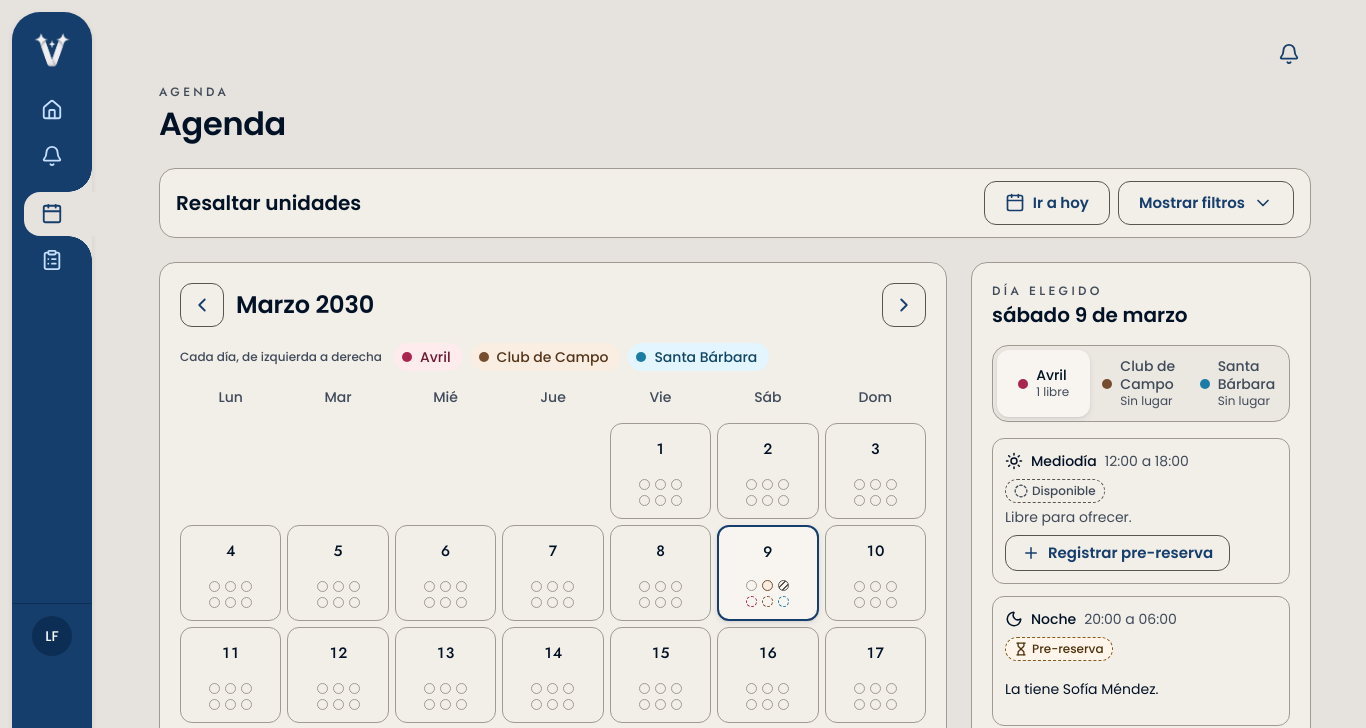
Test: UI-08 · registrar pre-reserva › la vendedora elige un cliente existente y el nombre del evento se arma solo
Click the button "Registrar pre-reserva". click: (1118, 553)
box: [1005, 535, 1230, 571]
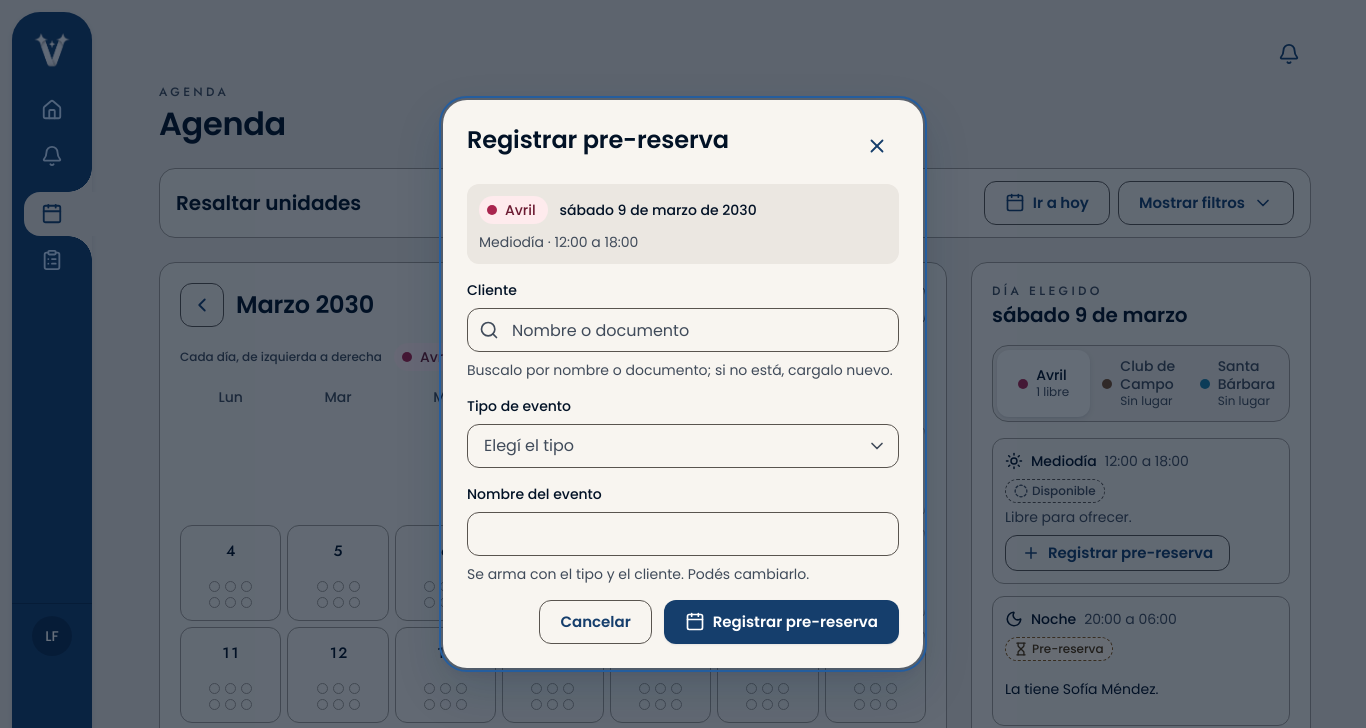
Result: the text "sábado 9 de marzo de 2030" is shown at [560, 200, 757, 220]
Type "Delf" into the dropdown labelled "Cliente". click: (683, 330)
box: [467, 308, 899, 352]
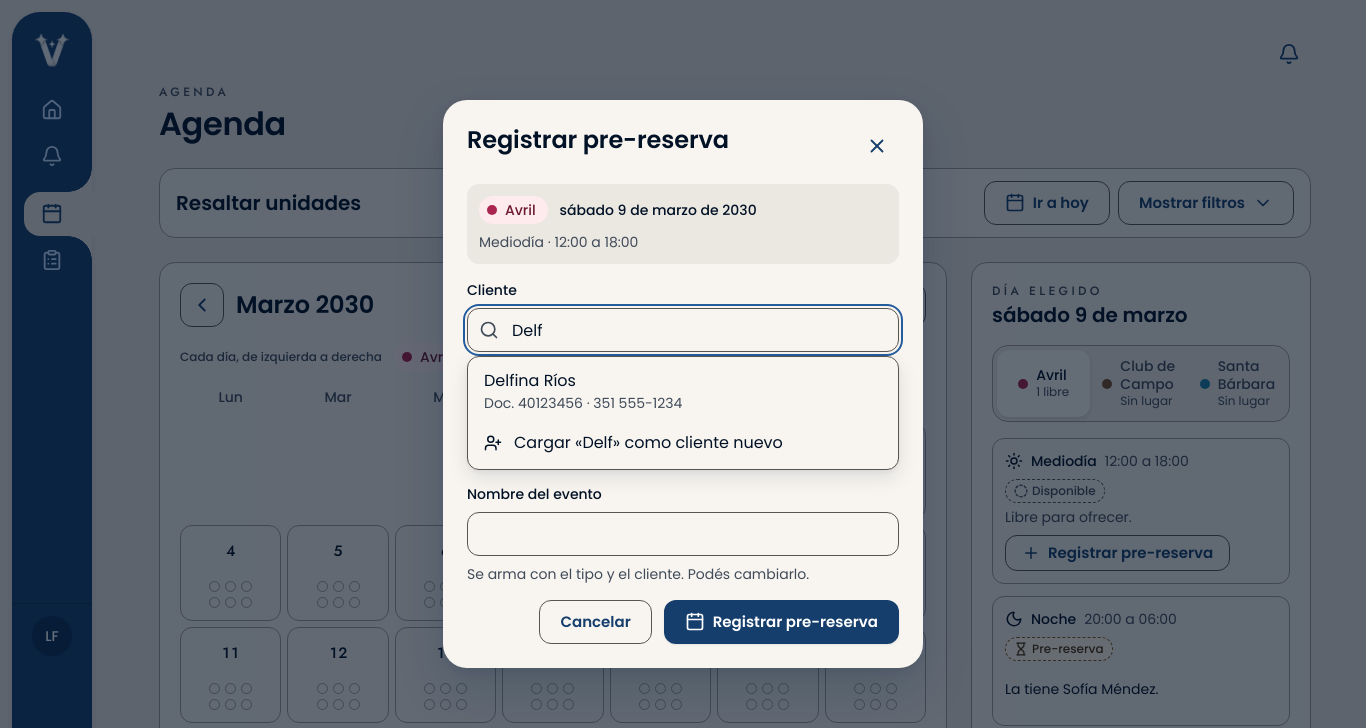
Click the option "Delfina Ríos Doc. 40123456 · 351 555-1234". click: (583, 391)
box: [484, 369, 682, 413]
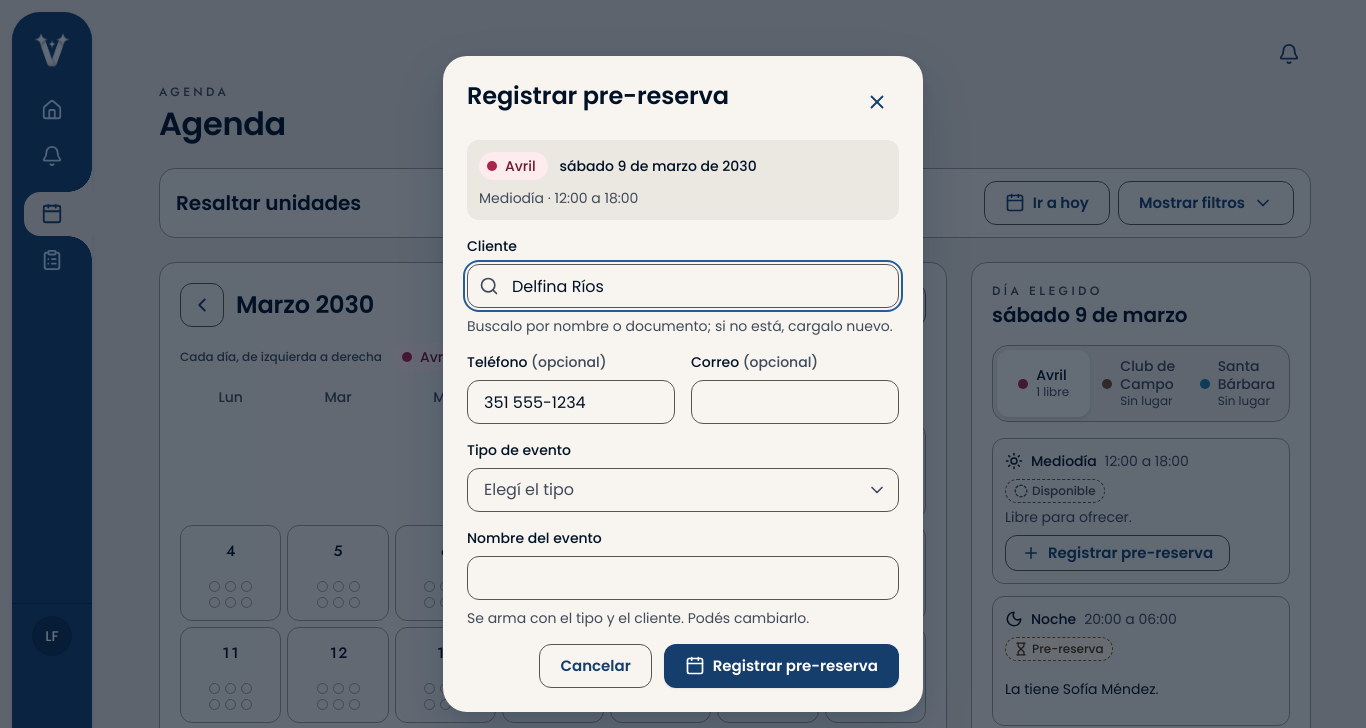
Result: the field labelled "Teléfono (opcional)" holds "351 555-1234" at [467, 380, 675, 424]
Select "Quince" in the dropdown labelled "Tipo de evento". click: (683, 490)
box: [467, 468, 899, 512]
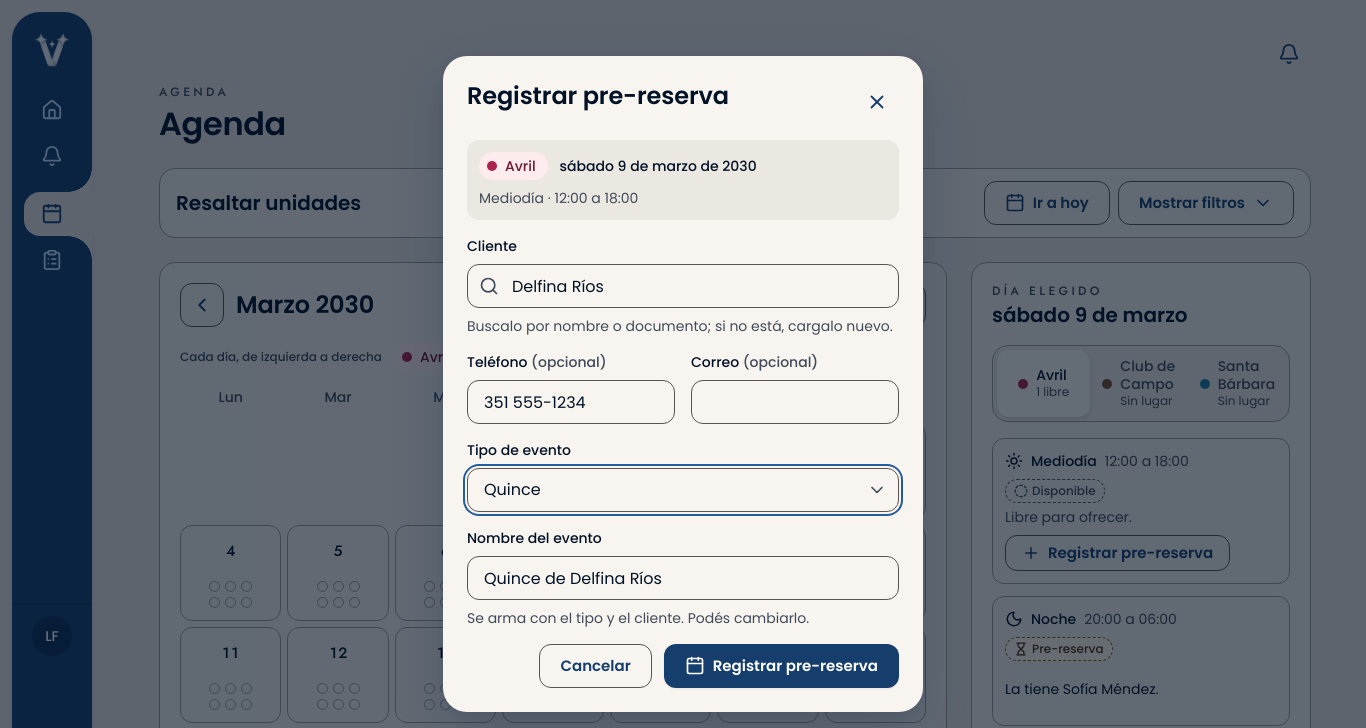
Result: the field labelled "Nombre del evento" holds "Quince de Delfina Ríos" at [467, 556, 899, 600]
Click the button "Registrar pre-reserva". click: (781, 666)
box: [664, 644, 899, 688]
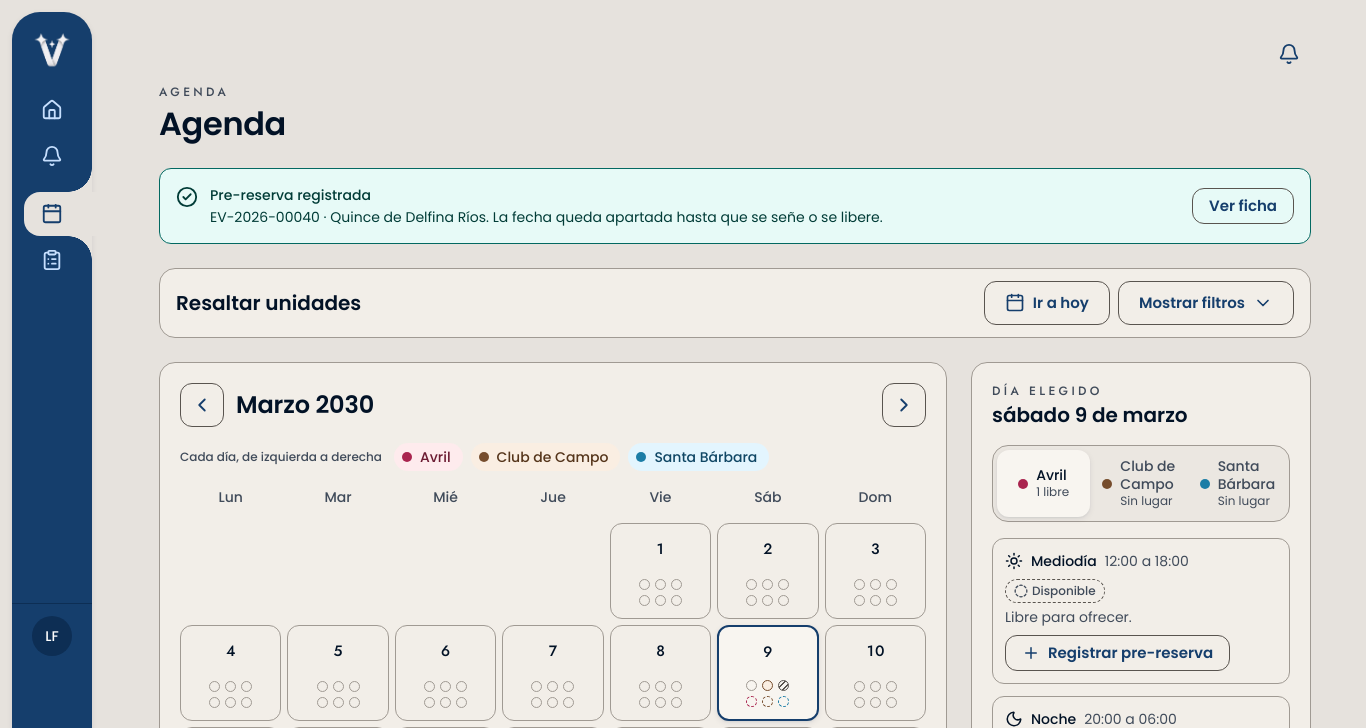
Result: the text "EV-2026-00040 · Quince de Delfina Ríos." is shown at [210, 207, 883, 227]
Result: the dialog is gone
